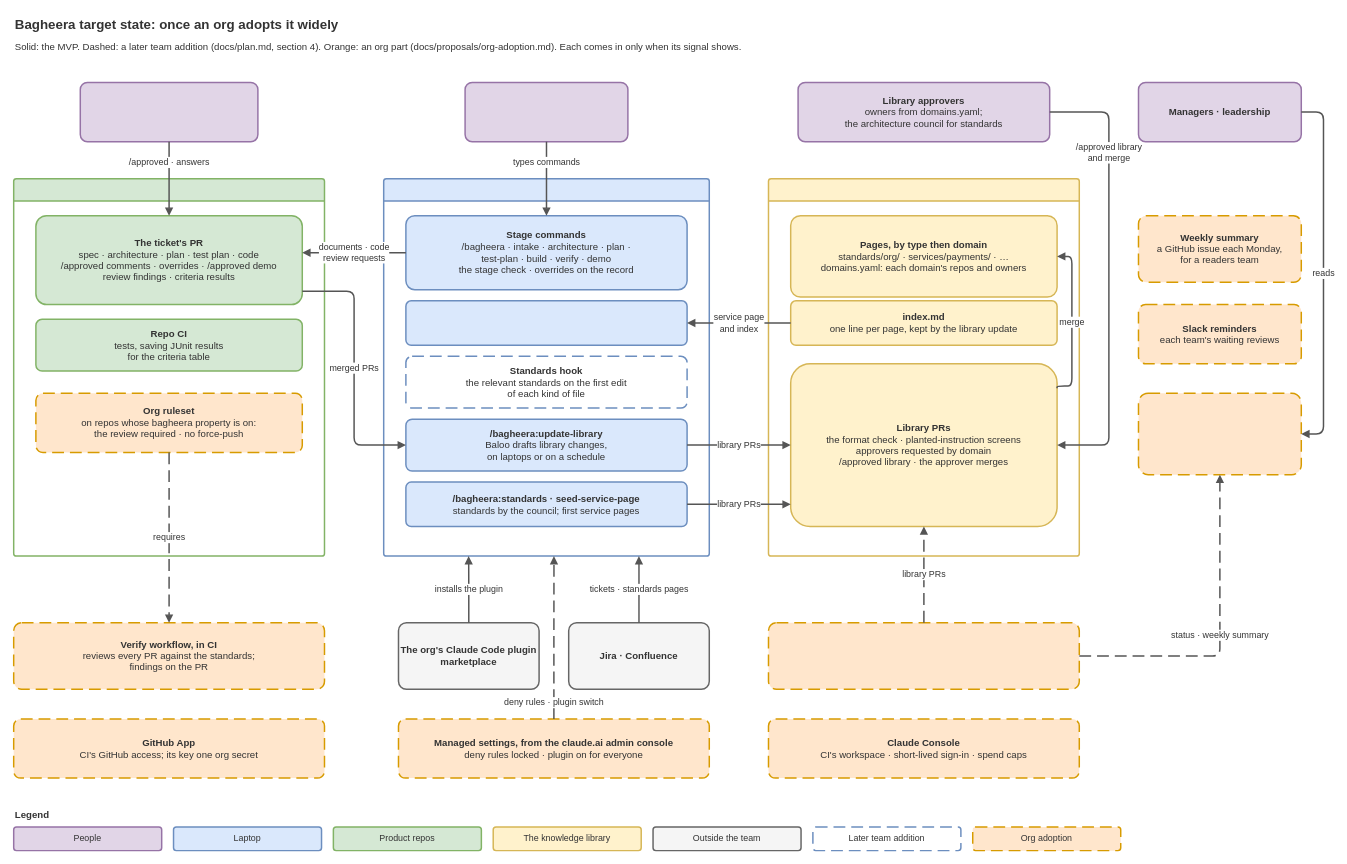
This 1347x864 diagram has some shape labels left out. Each missing label, with the box of its shape:
Bagheera dashboard an org GitHub Project: stage, status, waiting on whom: (1137, 392, 1302, 475)
Council Rock · the org's knowledge library: (767, 178, 1080, 556)
Developer: (464, 81, 628, 142)
Laptop · Claude Code: (383, 178, 710, 556)
PM · tech lead · QA approve spec, architecture, plan, test plan and demo: (79, 81, 258, 142)
Product repos · GitHub: (13, 178, 325, 556)
Scheduled jobs, in CI the library update · the dashboard sync: (767, 622, 1080, 690)
Session-start hook the service page and the index: (405, 300, 687, 346)
